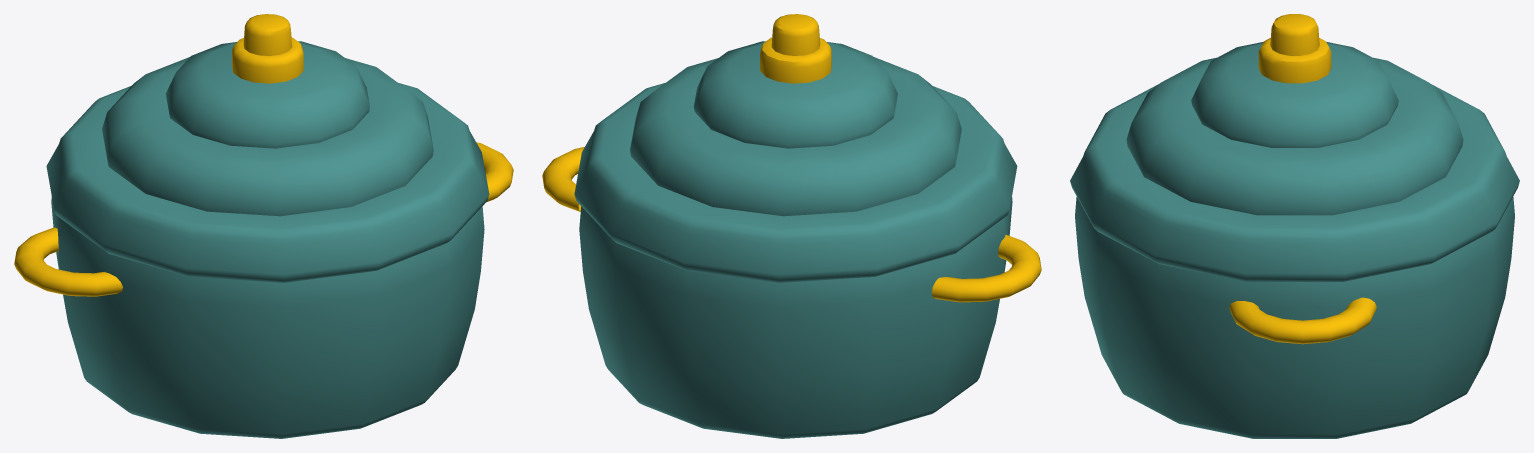
Rendered from Food Pot_3.fbx.
3 renders of one model, left to right at view 1: azimuth 30°, elevation 25°; view 2: azimuth 150°, elevation 25°; view 3: azimuth 270°, elevation 25°, orthographic.
Visible parts, largest first — view 1: Food Pot Cover_3, Food Pot_3; view 2: Food Pot Cover_3, Food Pot_3; view 3: Food Pot Cover_3, Food Pot_3.
Boxes of the visible parts, left/top/right/bottom form: Food Pot Cover_3: left=46, top=14, right=489, bottom=282; Food Pot_3: left=14, top=142, right=513, bottom=438; Food Pot Cover_3: left=574, top=14, right=1017, bottom=282; Food Pot_3: left=542, top=147, right=1041, bottom=438; Food Pot Cover_3: left=1070, top=14, right=1519, bottom=281; Food Pot_3: left=1075, top=197, right=1514, bottom=438.
Bounding box in the file's own units: 0.2796 × 0.1894 × 0.2255.
